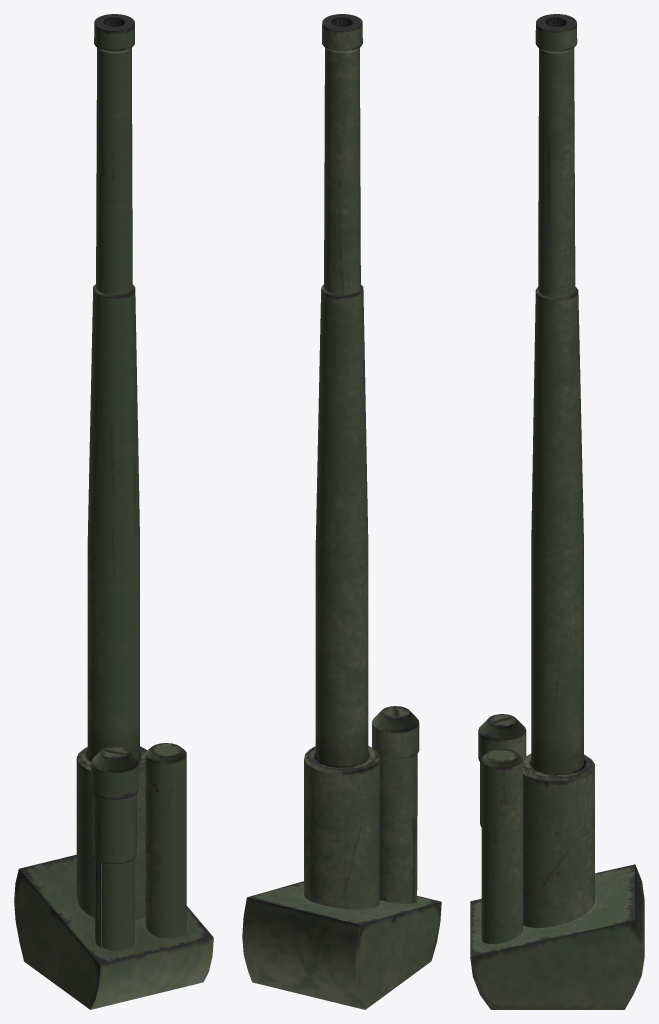
The model's file is Gun_01.glb.
3 views of the same model, side by side, from view 1: azimuth 30°, elevation 25°; view 2: azimuth 150°, elevation 25°; view 3: azimuth 270°, elevation 25° (orthographic).
Parts seen in each view (by area): view 1: set_0_group_0; view 2: set_0_group_0; view 3: set_0_group_0.
Boxes of the visible parts, box(x1,y1,x2,y2) form: set_0_group_0: box(14, 14, 213, 1009); set_0_group_0: box(242, 14, 441, 1009); set_0_group_0: box(470, 14, 644, 1009).
Bounding box in the file's own units: 0.4431 × 3.55 × 0.5854.
Materials: 1 (1 with a texture image).
